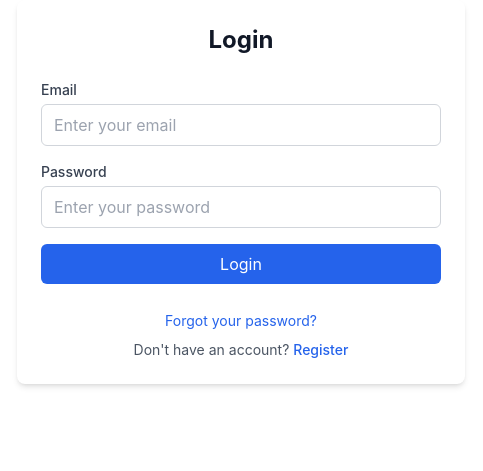
Test: LoginForm › handles form submission error
Type "test@example.com" into the field labelled "Email" at coordinates (241, 125), box [41,104,441,146]
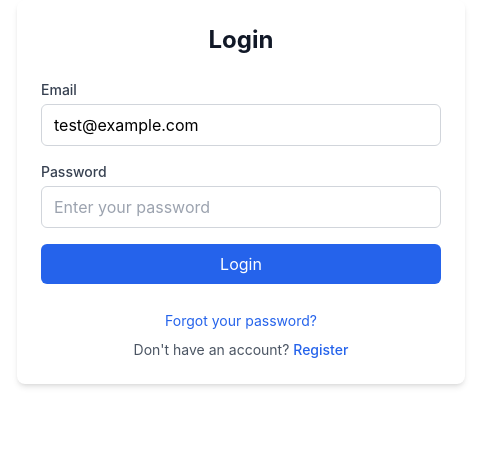
Type "wrongpassword" into the password field labelled "Password" at coordinates (241, 207), box [41,186,441,228]
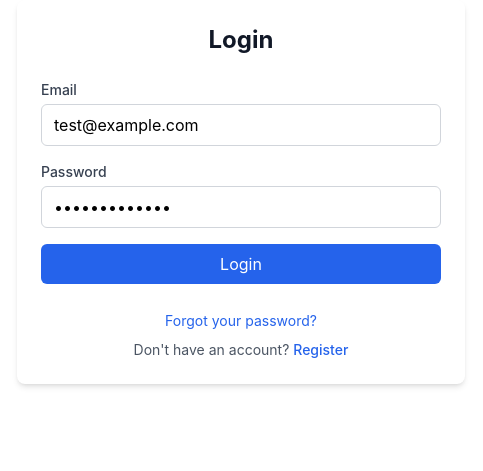
Click the button "Login" at coordinates (241, 264), box [41,244,441,284]
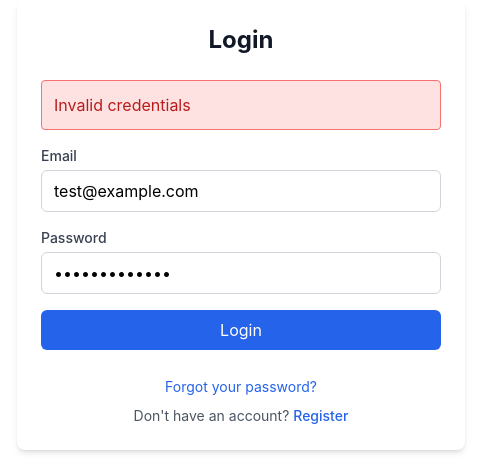
Expected: the text "Invalid credentials" is shown, [41,80,441,130]
